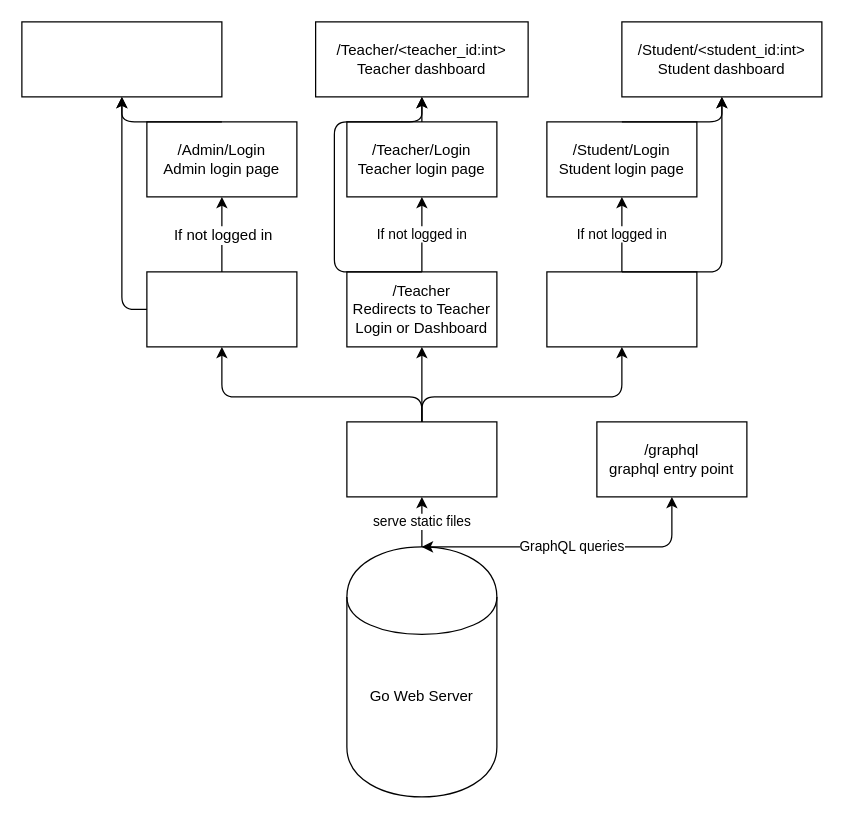
Some shapes in this 844 by 819 pixel diagram are drawn without their labels. Here are the shapes that lost their labels. From the top down, the centre of each, then its label:
At point 121,59: "/Admin/<admin_id:int> Admin dashboard".
At point 221,309: "/Admin Redirects to Admin Login or Dashboard".
At point 621,309: "/Student Redirects to Student Login or Dashboard".
At point 421,459: "/ welcome screen".
